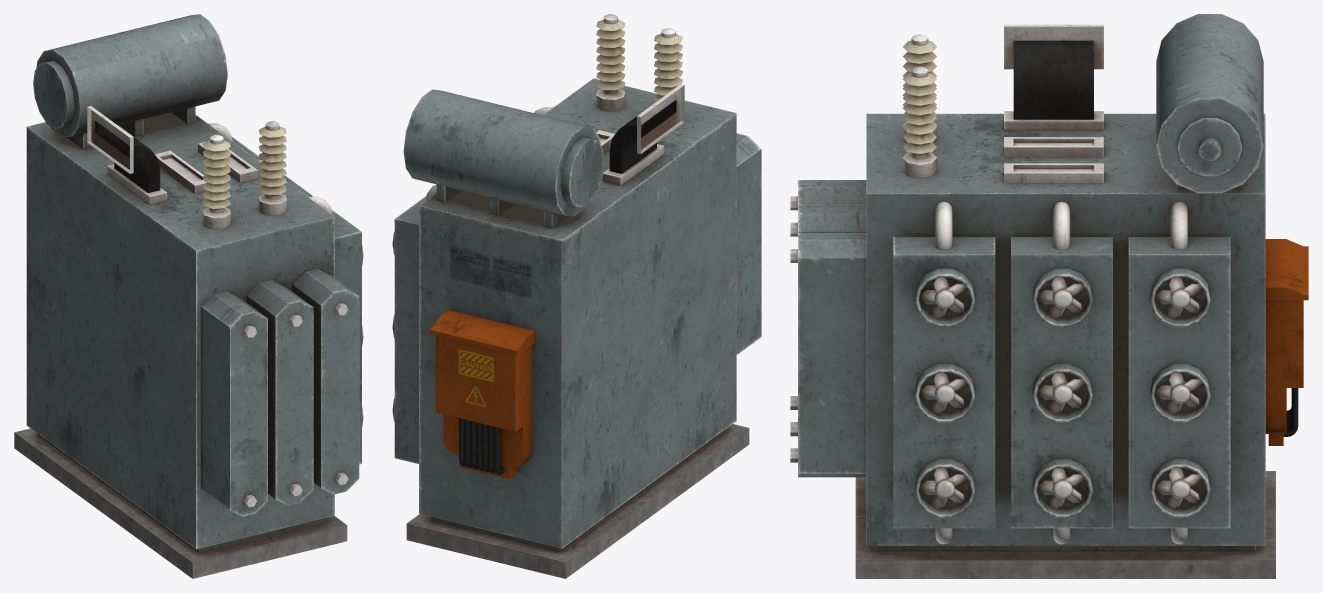
The picture shows the model from 3 angles, left to right: view 1: azimuth 30°, elevation 25°; view 2: azimuth 150°, elevation 25°; view 3: azimuth 270°, elevation 25°; orthographic projection. The views are drawn at different scales.
Visible parts, largest first — view 1: MainBody, SideCoolers, OilTank, Base, ElectricalRack, FrontCoolers, TopPorts, Coil.001, Coil; view 2: MainBody, OilTank, Panel, Base, FrontCoolers, SideCoolers, ElectricalRack, Coil.001, Coil, TopPorts; view 3: FrontCoolers, MainBody, Fans, SideCoolers, OilTank, Base, ElectricalRack, Panel, TopPorts, Coil.001, Coil.
Boxes of the visible parts, left/top/right/bottom form: MainBody: left=26, top=112, right=334, bottom=552; SideCoolers: left=201, top=268, right=359, bottom=516; OilTank: left=33, top=14, right=227, bottom=149; Base: left=14, top=428, right=347, bottom=578; ElectricalRack: left=87, top=106, right=160, bottom=192; FrontCoolers: left=208, top=123, right=361, bottom=464; TopPorts: left=107, top=141, right=257, bottom=204; Coil.001: left=258, top=121, right=286, bottom=215; Coil: left=202, top=134, right=230, bottom=229; MainBody: left=419, top=78, right=736, bottom=552; OilTank: left=403, top=89, right=604, bottom=228; Panel: left=430, top=310, right=535, bottom=479; Base: left=406, top=424, right=749, bottom=578; FrontCoolers: left=394, top=107, right=553, bottom=463; SideCoolers: left=736, top=133, right=761, bottom=354; ElectricalRack: left=609, top=84, right=684, bottom=173; Coil.001: left=596, top=14, right=625, bottom=111; Coil: left=654, top=28, right=682, bottom=101; TopPorts: left=596, top=130, right=664, bottom=185; FrontCoolers: left=893, top=201, right=1230, bottom=544; MainBody: left=866, top=113, right=1265, bottom=551; Fans: left=915, top=268, right=1210, bottom=517; SideCoolers: left=790, top=180, right=866, bottom=477; OilTank: left=1156, top=14, right=1263, bottom=193; Base: left=855, top=471, right=1275, bottom=578; ElectricalRack: left=1004, top=24, right=1103, bottom=119; Panel: left=1265, top=239, right=1308, bottom=445; TopPorts: left=1004, top=111, right=1103, bottom=182; Coil.001: left=902, top=66, right=937, bottom=177; Coil: left=902, top=34, right=937, bottom=142.
Bounding box in the file's own units: 2.55 × 5.09 × 4.93.
Materials: 1 (1 with a texture image).
